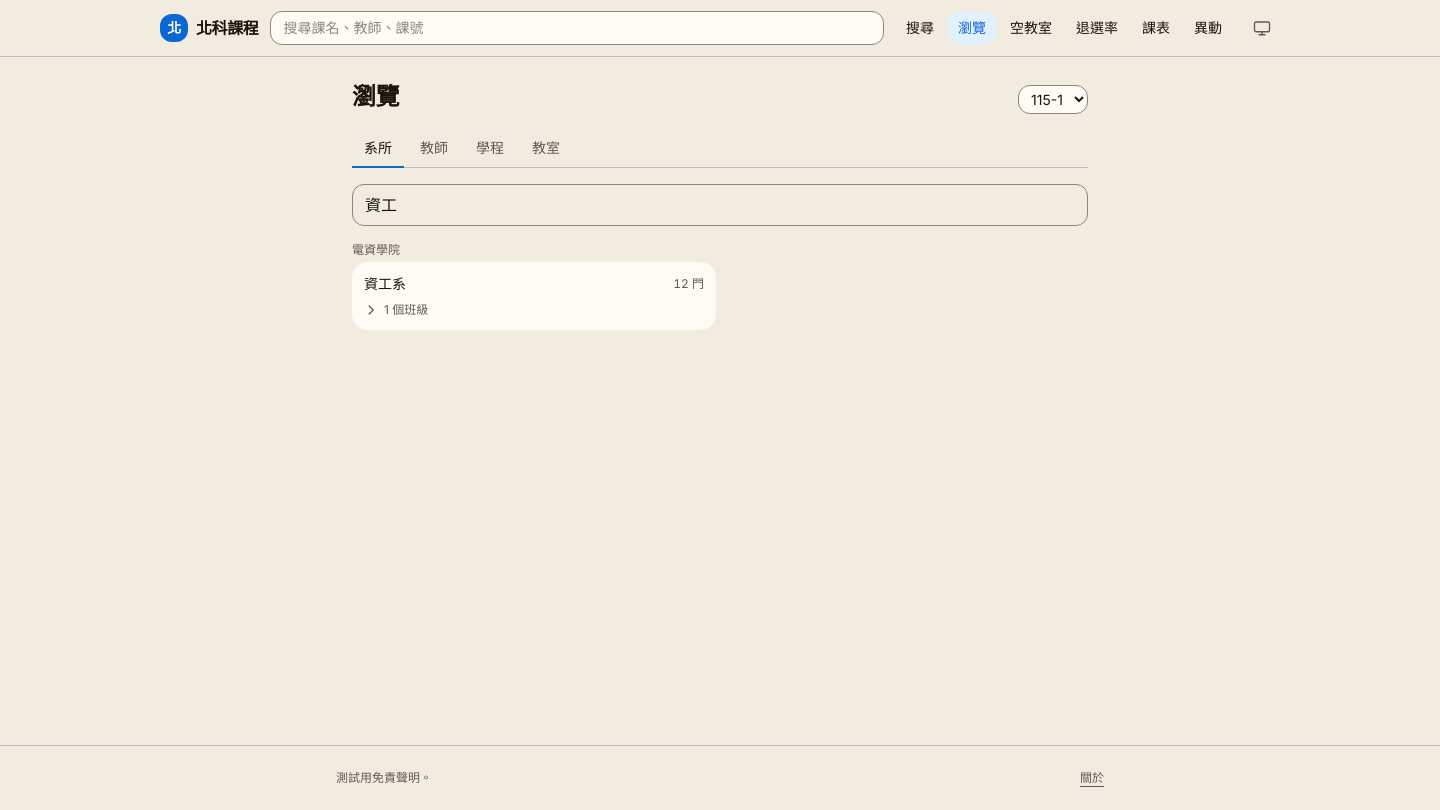
Test: /browse › 換分頁會清掉關鍵字,而且不會被搜尋框寫回來
The image size is (1440, 810).
Expected: the link "資工系" is shown, [364, 275, 406, 292]
Click the tab "教師".
click(434, 149)  # box [408, 130, 460, 168]
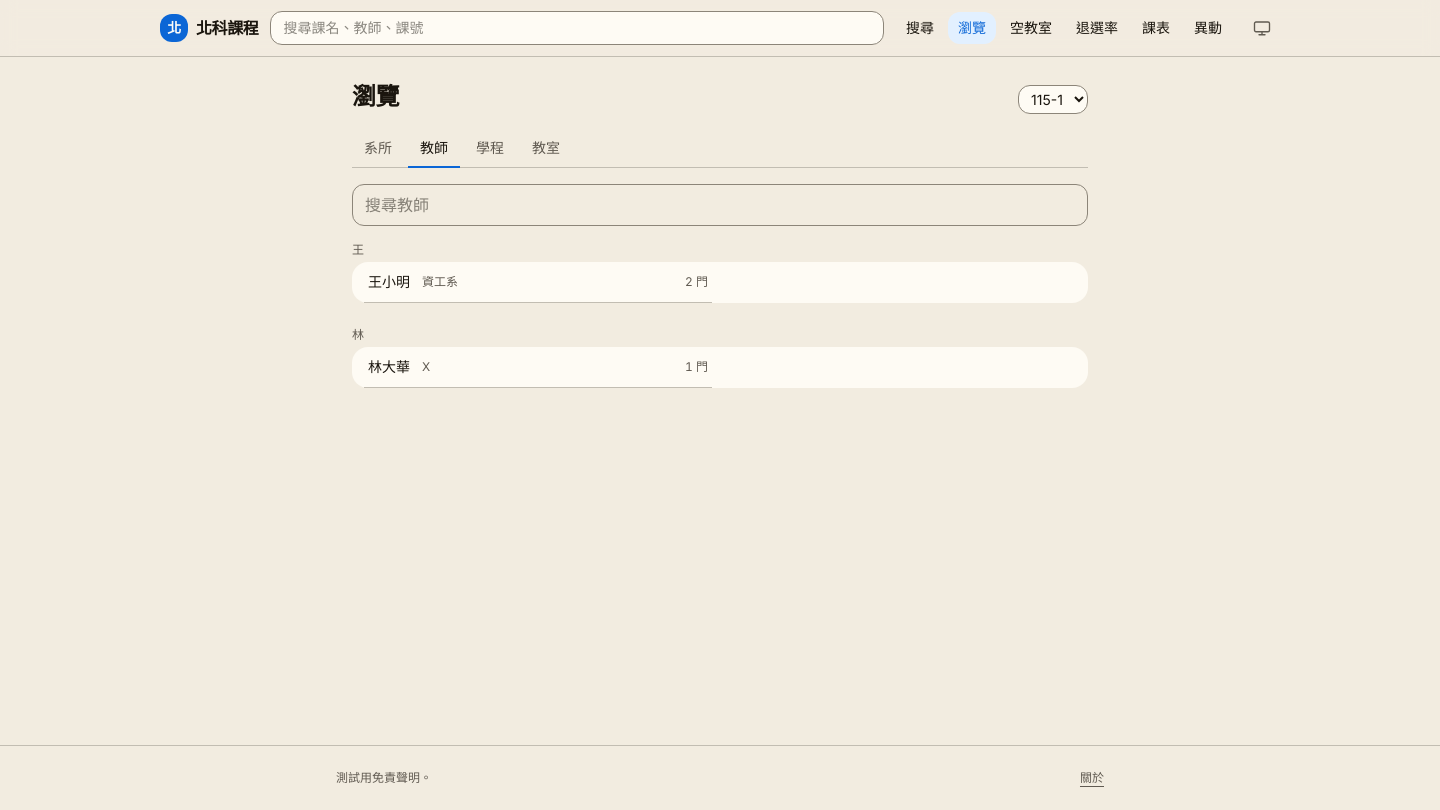
Result: the link "王小明 資工系 2 門" is shown at [364, 262, 712, 303]
Result: the search field labelled "搜尋教師" is empty at [352, 184, 1088, 226]
